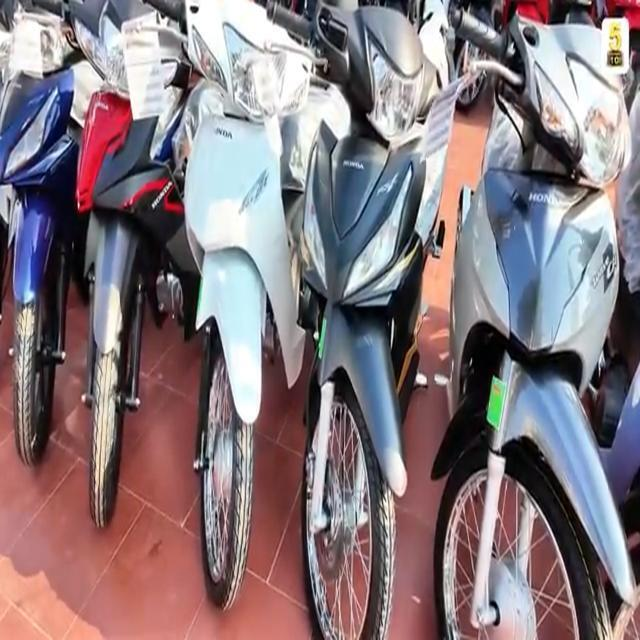motorcycle: (449, 1, 640, 639), (2, 0, 179, 635), (287, 0, 448, 640)
